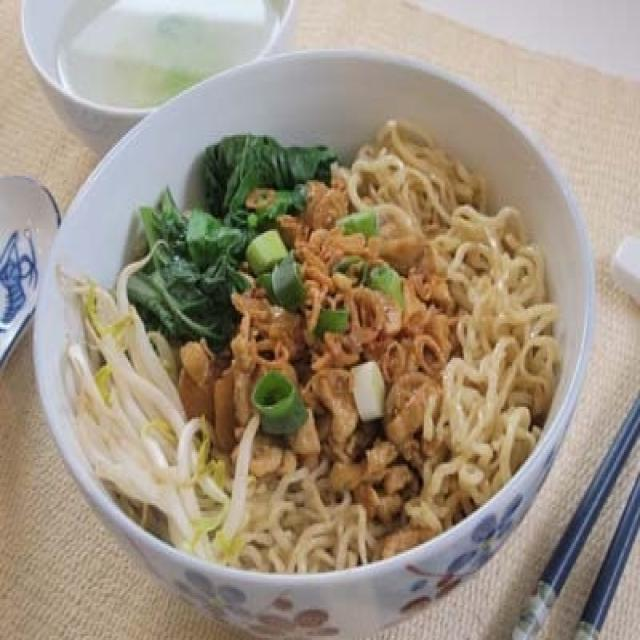面条主食: (21, 39, 605, 619)
